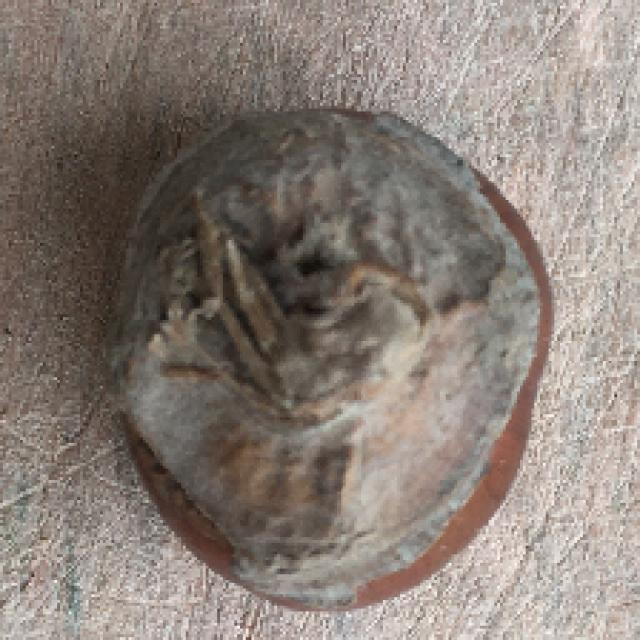damagedHazelnut: (101, 86, 551, 615)
